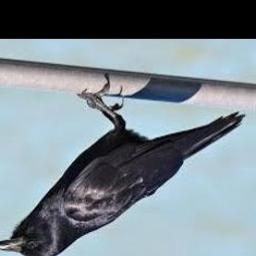Crow: (0, 85, 246, 256)
